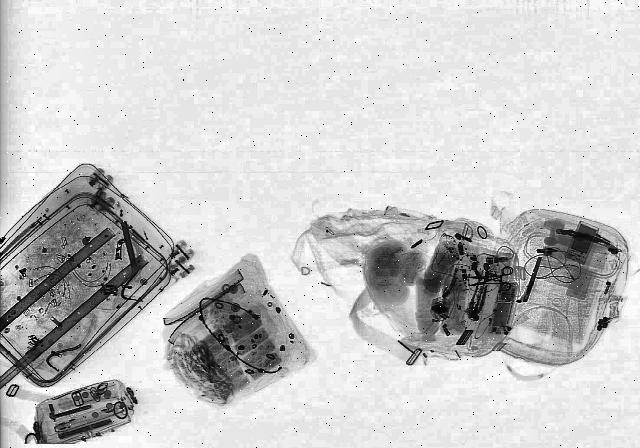Scissors: (468, 266, 516, 292)
